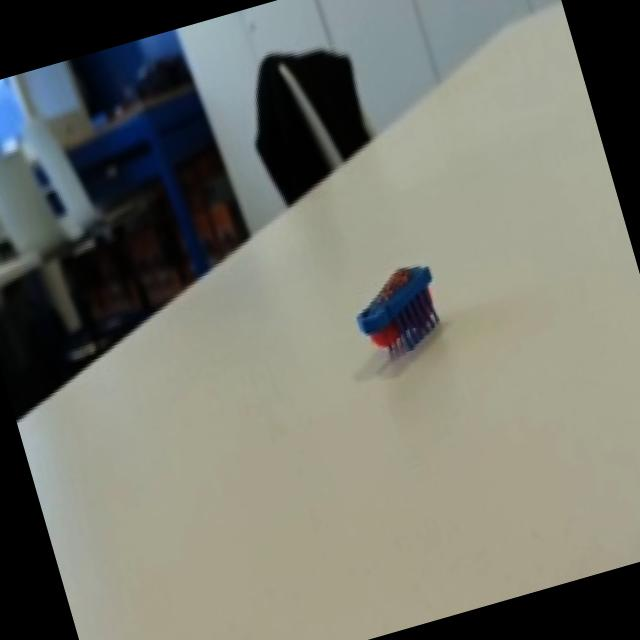1_NanoBug_Azul: (311, 225, 497, 388)
